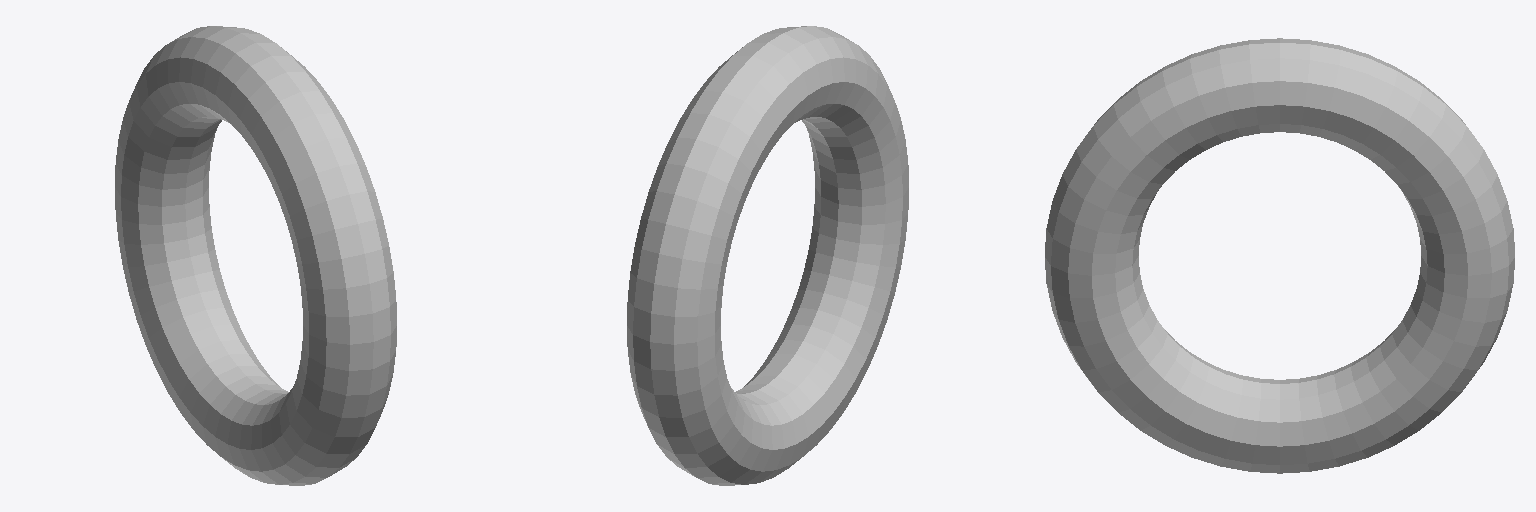
File: coin.obj
The picture shows the model from 3 angles: view 1: azimuth 30°, elevation 25°; view 2: azimuth 150°, elevation 25°; view 3: azimuth 270°, elevation 25°; orthographic projection.
Visible parts, largest first — view 1: Cube.006; view 2: Cube.006; view 3: Cube.006.
Part boxes in pixels (x1,y1,x2,y2): Cube.006: (115, 26, 396, 485); Cube.006: (627, 26, 908, 485); Cube.006: (1045, 38, 1514, 473).
Size of the model in its own units: 0.075 by 0.375 by 0.375.